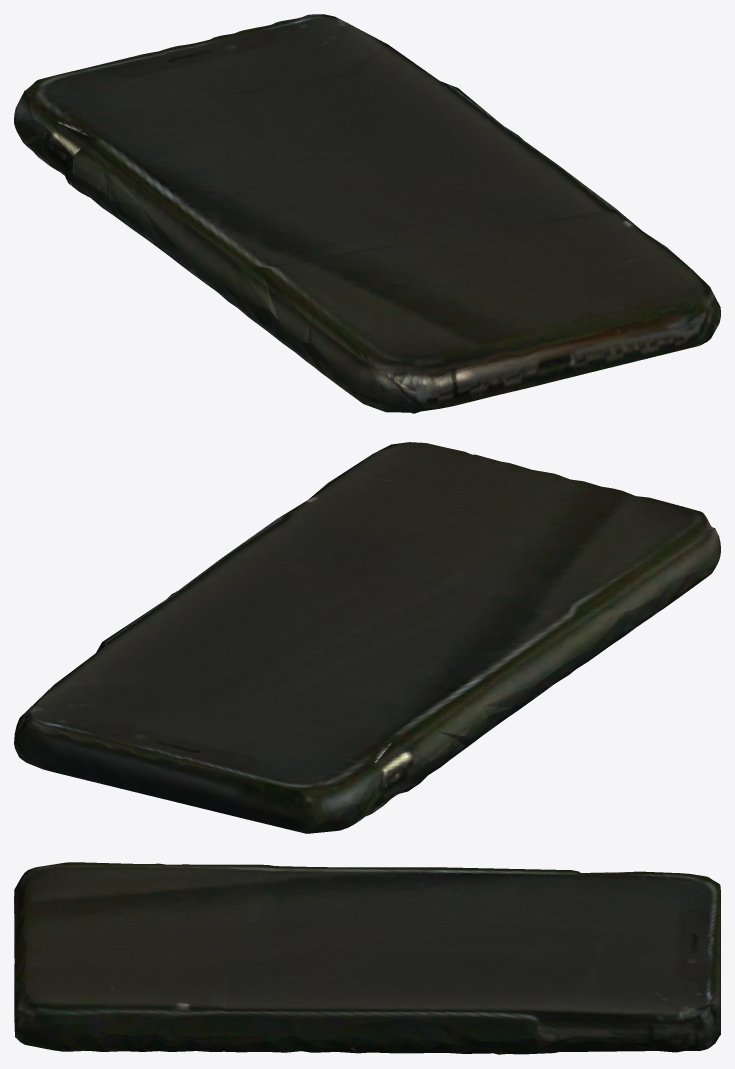
Rendered from iPhone.obj.
The picture shows the model from 3 angles, top to bottom: view 1: azimuth 30°, elevation 25°; view 2: azimuth 150°, elevation 25°; view 3: azimuth 270°, elevation 25°; orthographic projection. The views are drawn at different scales.
Bounding box in the file's own units: 79.1 × 9.89 × 147.
Materials: 1 (1 with a texture image).
